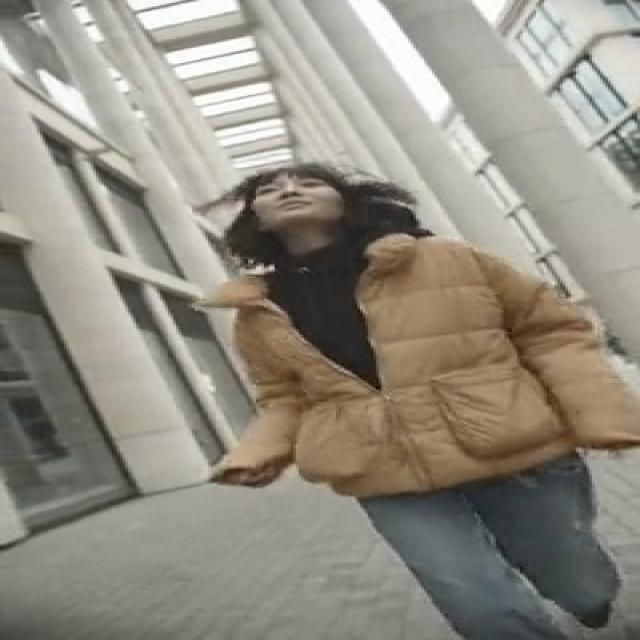Jacket_Wearer: (184, 237, 640, 488)
Person: (176, 146, 640, 623)
